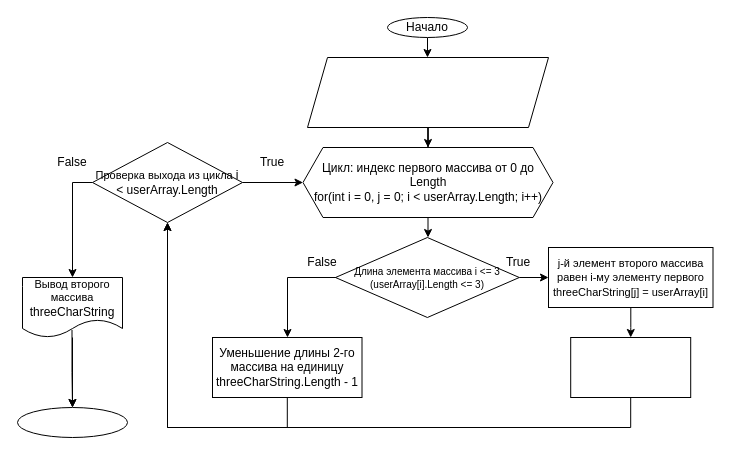
This 731x455 diagram has some shape labels left out. Here are the shapes that lost their labels. From the top down, the centre of each, then its label:
point 427,92: Ввод массивов: userArray[Length], threeCharString[userArray.Length]
point 630,367: Увеличение индекса второго массива на единицу j++;
point 72,422: Конец
